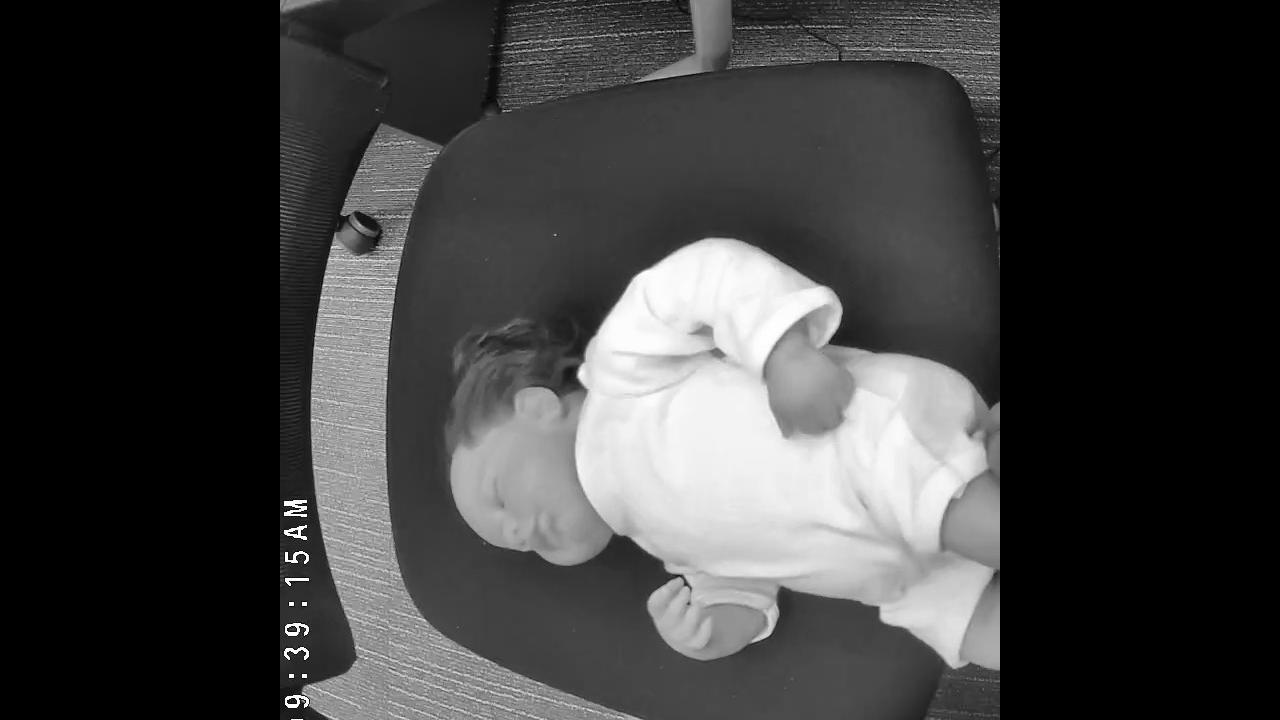hand: (765, 332, 858, 442), (646, 576, 742, 656)
